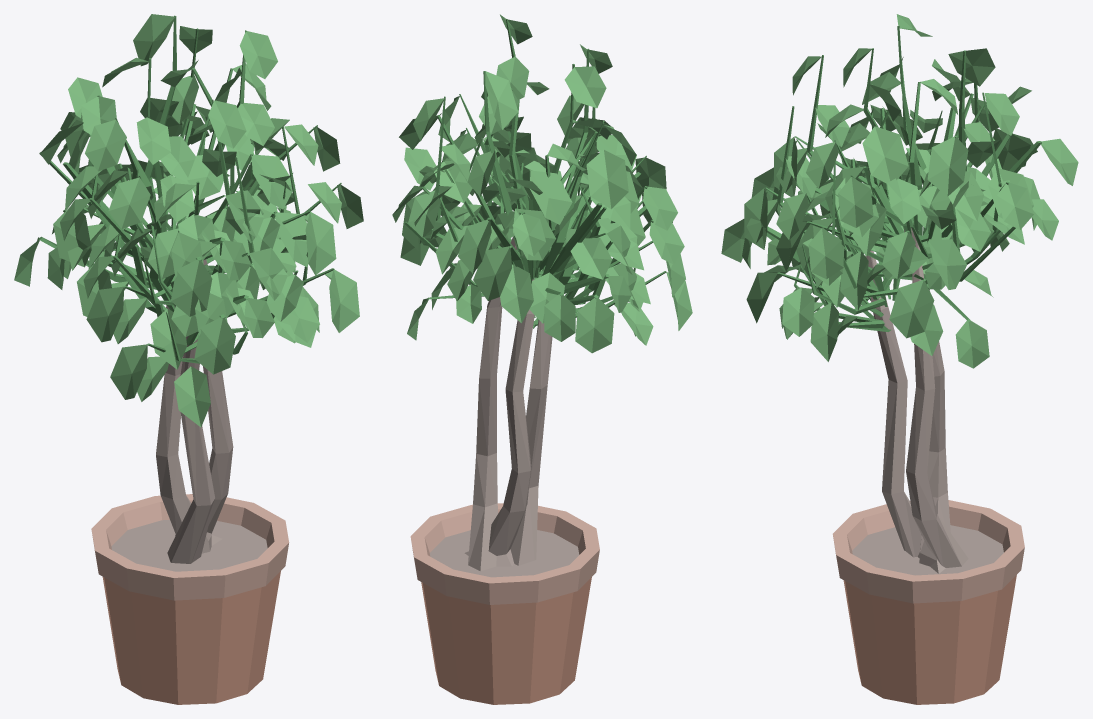
Rendered from plant.glb.
3 views of the same model, side by side, from view 1: azimuth 30°, elevation 25°; view 2: azimuth 150°, elevation 25°; view 3: azimuth 270°, elevation 25° (orthographic). The views are drawn at different scales.
Visible parts, largest first — view 1: New_Game_Object_mat0_0.044; view 2: New_Game_Object_mat0_0.044; view 3: New_Game_Object_mat0_0.044.
Boxes of the visible parts, <box> form: New_Game_Object_mat0_0.044: <box>14,14,363,704</box>; New_Game_Object_mat0_0.044: <box>392,14,692,704</box>; New_Game_Object_mat0_0.044: <box>721,14,1078,704</box>.
Bounding box in the file's own units: 0.5734 × 1.36 × 0.6888.
